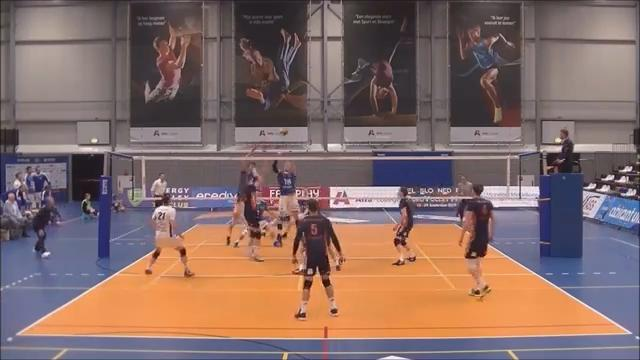Block: (272, 141, 312, 253), (232, 138, 261, 243)
Player: (292, 199, 344, 319), (145, 194, 194, 276), (459, 184, 493, 296), (392, 187, 415, 265), (244, 185, 263, 261), (456, 175, 472, 221), (257, 201, 277, 237), (150, 173, 166, 206), (292, 247, 305, 274)
ball: (279, 127, 288, 137)
